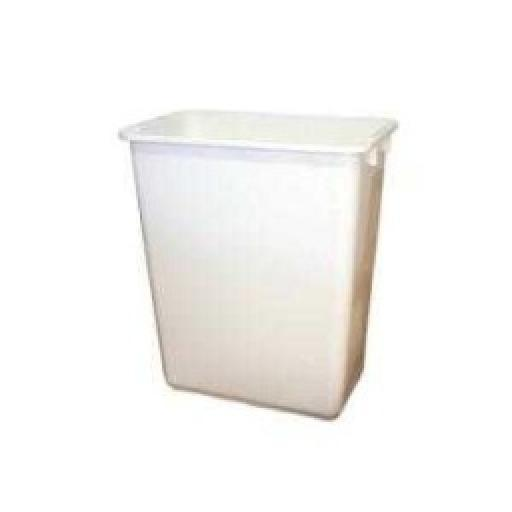trash-can: (112, 79, 403, 433)
